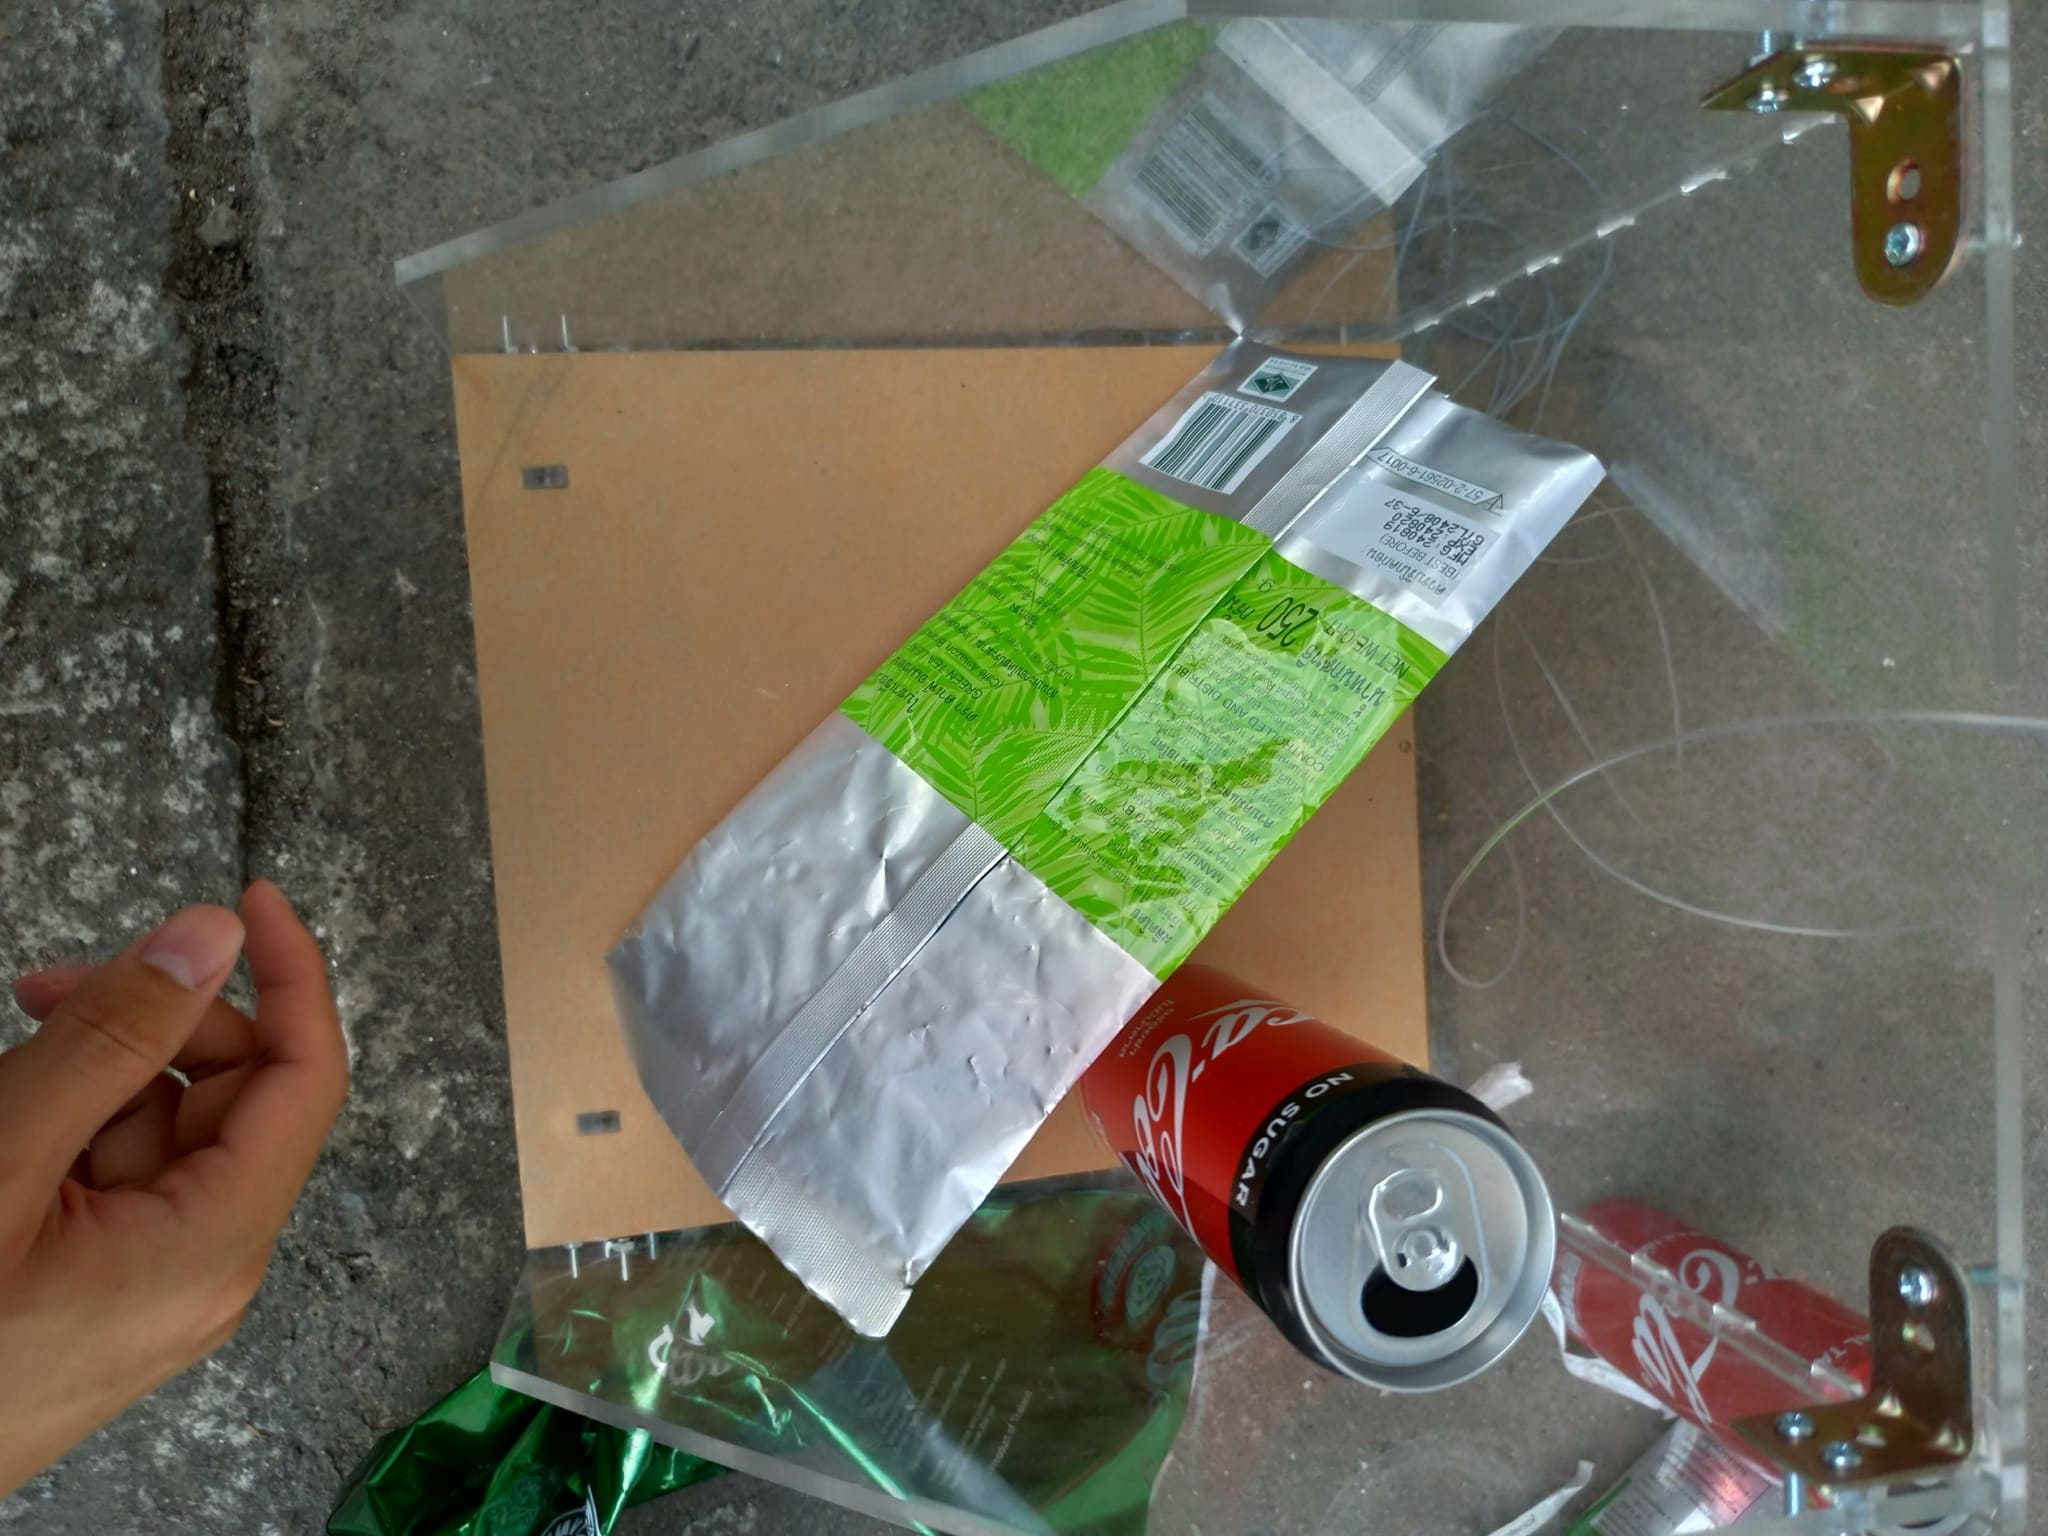AlCan: (1101, 958, 1564, 1392), (1558, 1199, 1885, 1438)
Others: (606, 336, 1600, 1325), (316, 1186, 1193, 1536)
